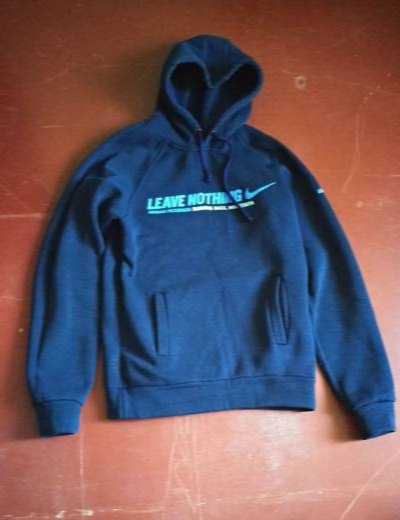Hoodie: (19, 28, 393, 459)
